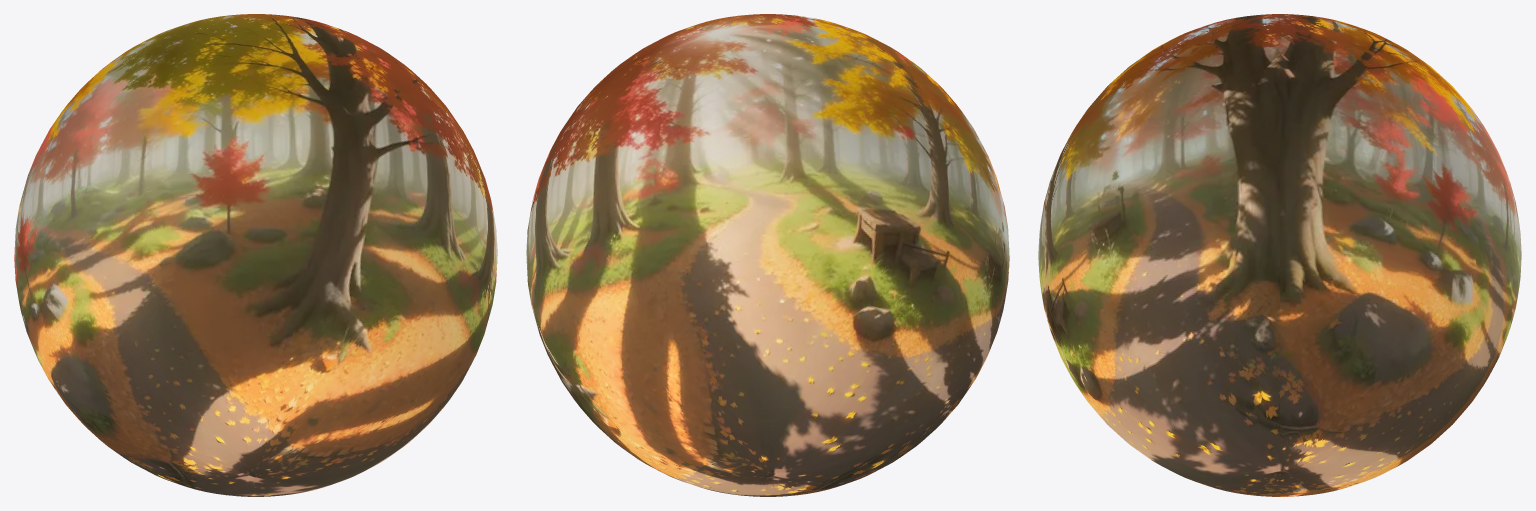
The model's file is free_-_skybox_autumn_forest.glb.
3 renders of one model, left to right at view 1: azimuth 30°, elevation 25°; view 2: azimuth 150°, elevation 25°; view 3: azimuth 270°, elevation 25°, orthographic.
Visible parts, largest first — view 1: Sphere__0; view 2: Sphere__0; view 3: Sphere__0.
Boxes of the visible parts, x1,y1,x2,y2 form: Sphere__0: (14, 14, 497, 496); Sphere__0: (526, 14, 1009, 496); Sphere__0: (1038, 14, 1521, 496).
Bounding box in the file's own units: 1000 × 1000 × 1000.
Materials: 1 (1 with a texture image).
